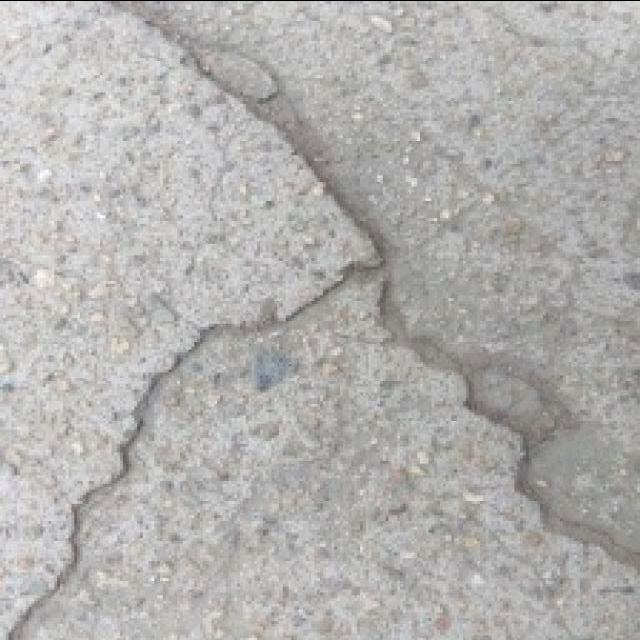SurfaceCrack: (0, 4, 634, 640)
